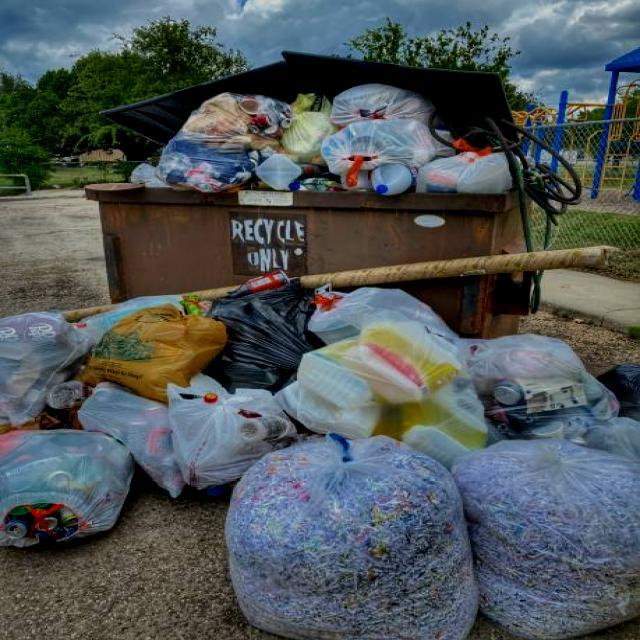high trash: (0, 282, 640, 640), (131, 84, 512, 195)
